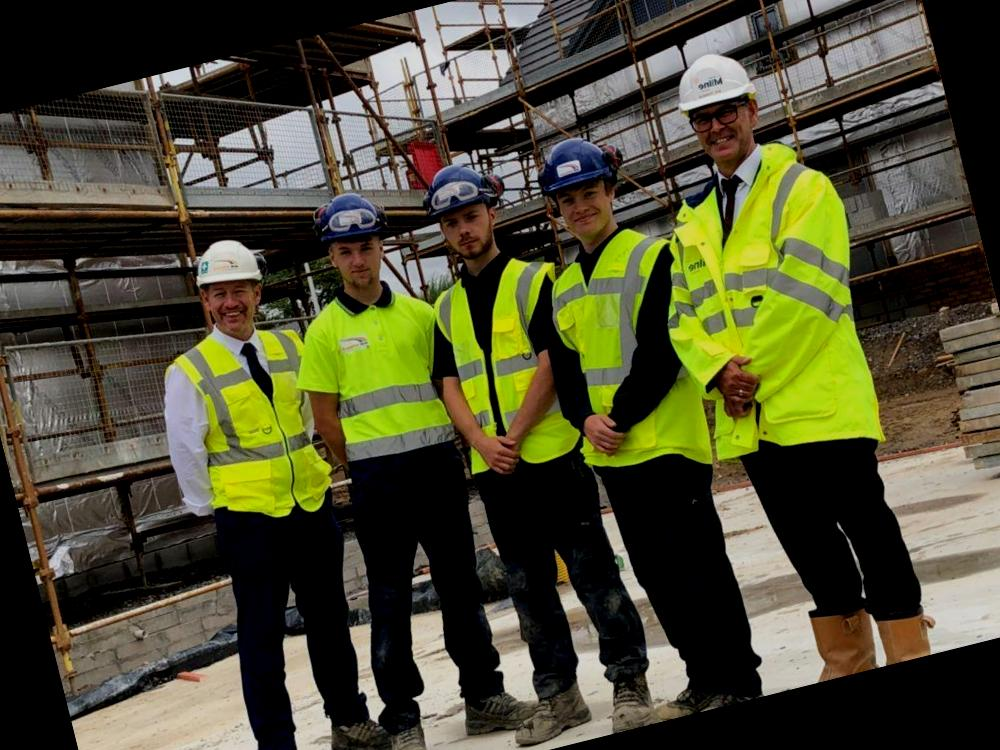helmet: (662, 31, 778, 135), (174, 221, 276, 307), (410, 148, 507, 230), (534, 123, 628, 203), (309, 178, 397, 262)
person: (624, 13, 954, 692), (384, 128, 672, 750), (245, 177, 541, 750), (112, 221, 411, 750), (520, 126, 770, 722)
